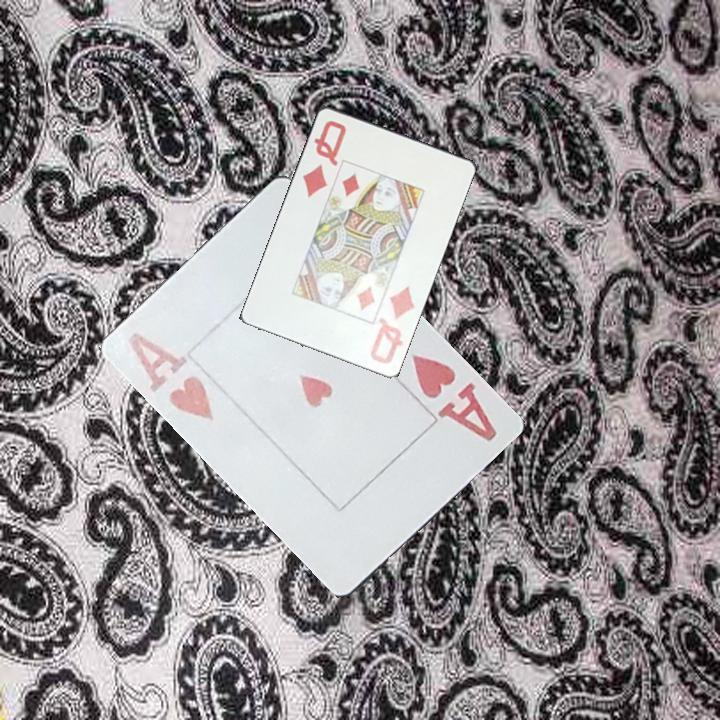Ah: (124, 329, 218, 424), (409, 350, 501, 445)
Qd: (366, 282, 418, 366), (299, 116, 349, 199)
